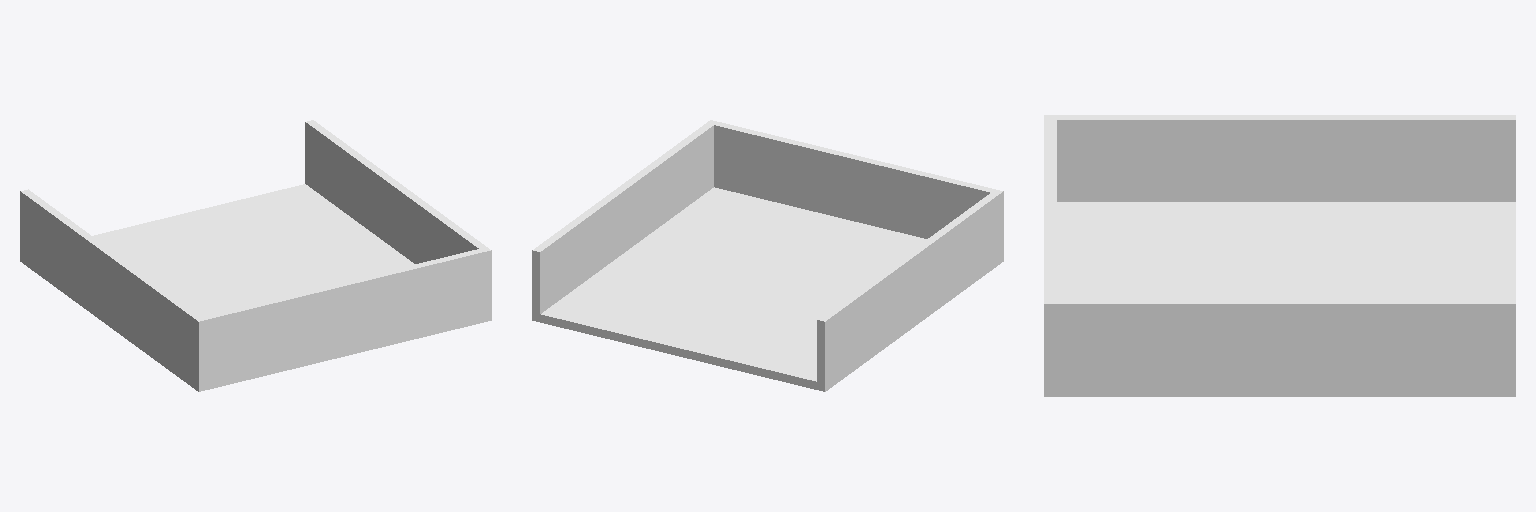
robot.urdf — drawer_compartment:
<?xml version="1.0" ?>
<robot name="drawer_compartment">
 <link name="baseLink">
   <contact>
     <lateral_friction value="0.5"/>
   </contact>
   <inertial>
     <origin rpy="0 0 0" xyz="0.700002 0.346449 0.571451"/>
      <mass value="1.0"/>
      <inertia ixx="0.001135" ixy="-0.000000" ixz="-0.000000" iyy="0.001263" iyz="0.000043" izz="0.002310"/>
   </inertial>
   <visual>
     <origin rpy="0 0 0" xyz="0 0 0"/>
     <geometry>
       <mesh filename="drawer_compartment.obj" scale="1.0 1.0 1.0"/>
     </geometry>
      <material name="white">
       <color rgba="1 1 1 1"/>
     </material>
   </visual>
   <collision>
     <origin rpy="0 0 0" xyz="0 0 0"/>
     <geometry>
       <mesh filename="drawer_compartment.obj" scale="1.0 1.0 1.0"/>
     </geometry>
   </collision>
 </link>
</robot>

--- Render facts (derived) ---
3 views of the same robot in one strip: view 1: azimuth 30°, elevation 25°; view 2: azimuth 150°, elevation 25°; view 3: azimuth 270°, elevation 25° (orthographic).
Model drawer_compartment with 1 links and 0 joints (none), rooted at baseLink, posed all joints at 0.
Visible links, largest first — view 1: baseLink; view 2: baseLink; view 3: baseLink.
Link boxes in pixels (box(x1,y1,x2,y2)): baseLink: box(20, 120, 491, 391); baseLink: box(532, 120, 1003, 391); baseLink: box(1044, 115, 1515, 396).
Size in the robot's own frame: 0.74 by 0.78 by 0.17 metres.
Meshes: 1 distinct files referenced, 1 mesh visuals loaded (1 OBJ).